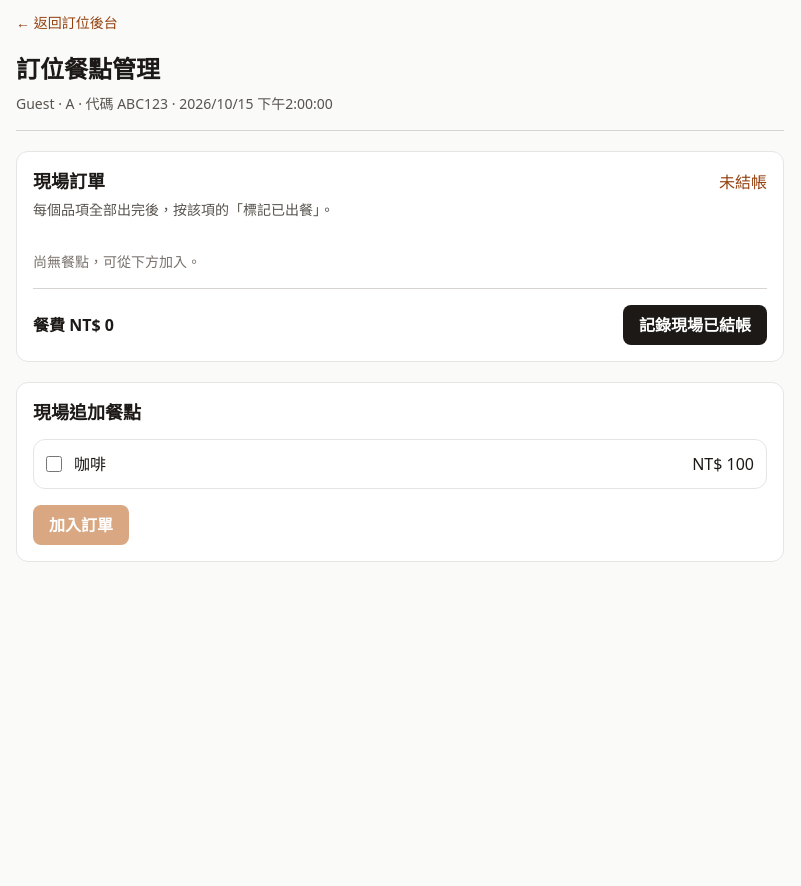
Test case: standalone reservation orders — acknowledged add versus refresh (#463) › clears only committed-stale after a successful manual reload
Click the checkbox named "選擇咖啡" at {"x": 54, "y": 464}, box [46, 456, 62, 472]
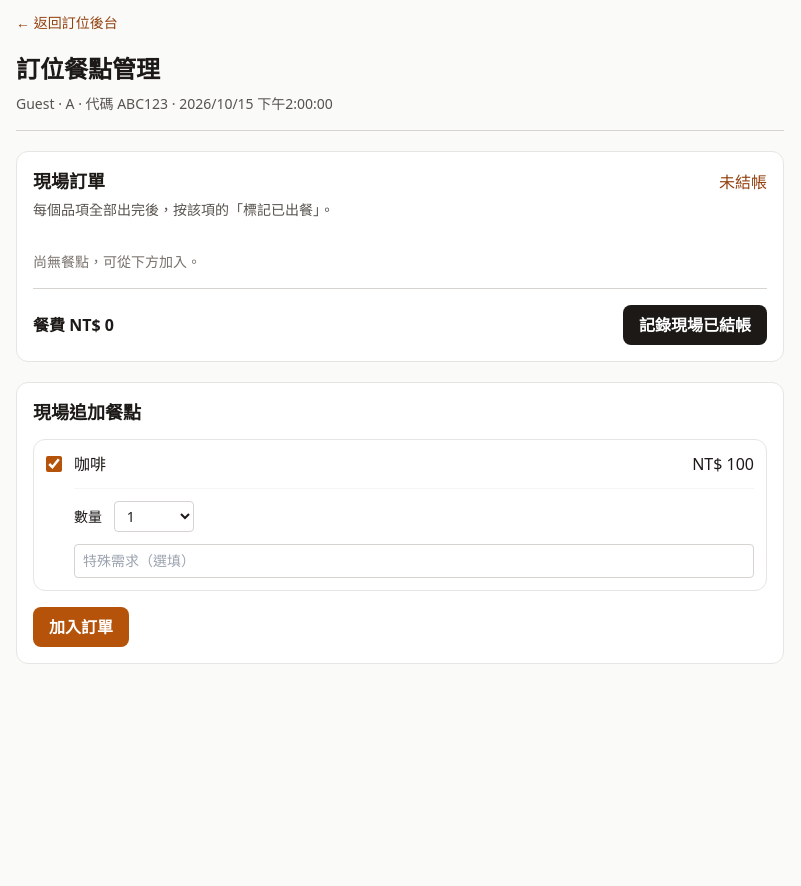
Click the button "加入訂單" at {"x": 81, "y": 627}, box [33, 607, 129, 647]
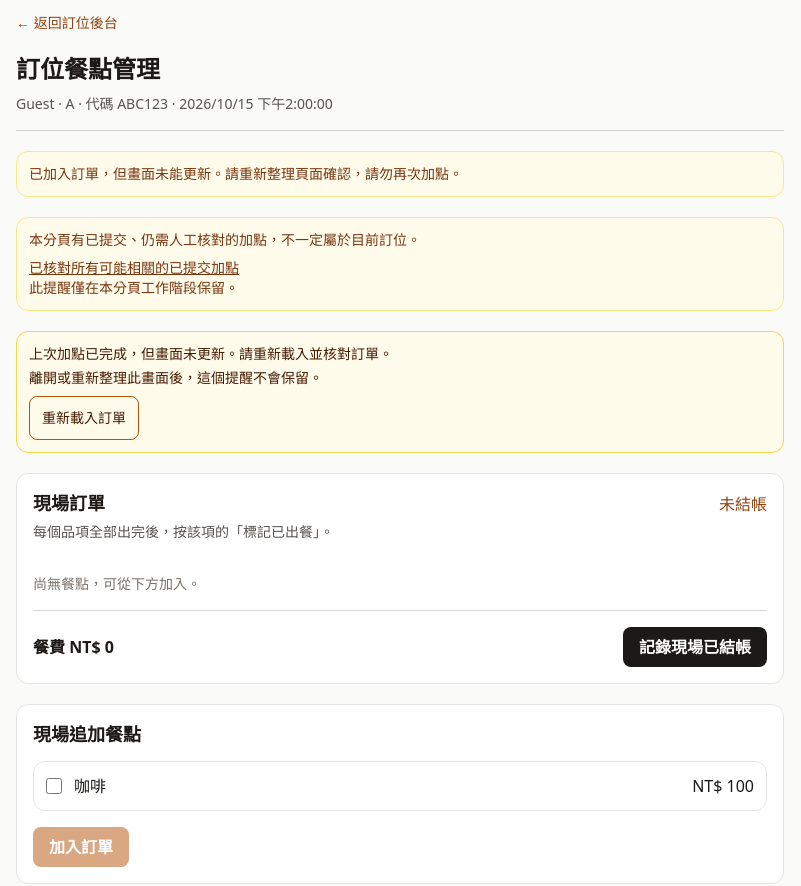
Expected: the text "上次加點已完成，但畫面未更新。請重新載入並核對訂單。" is shown, [29, 344, 393, 363]
Click the button "重新載入訂單" at {"x": 84, "y": 418}, box [29, 396, 139, 440]
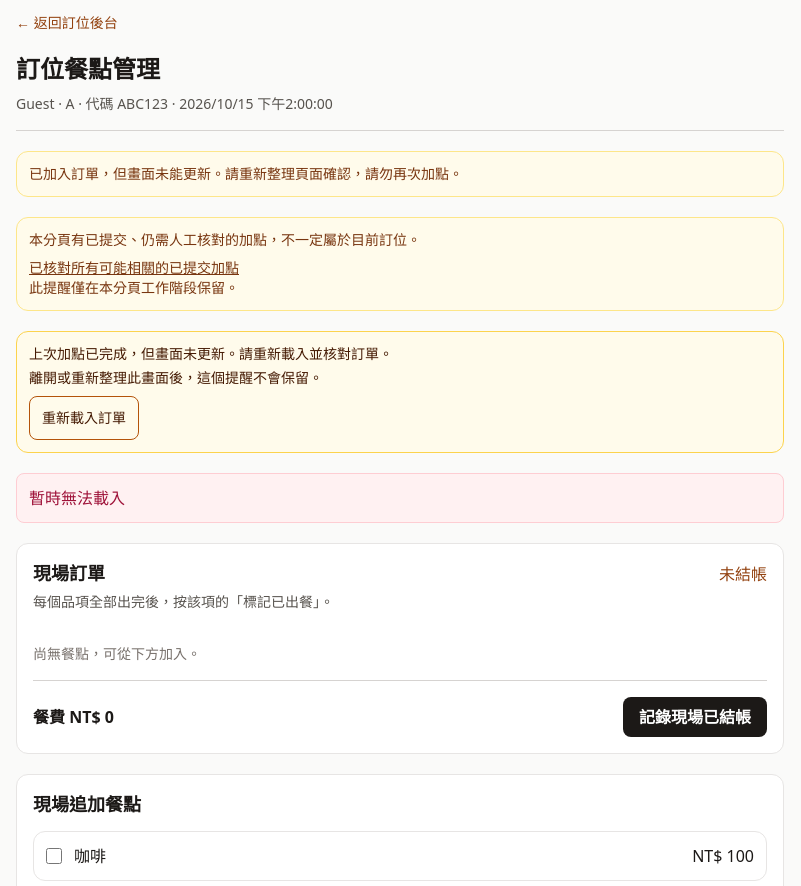
Expected: the text "上次加點已完成，但畫面未更新。請重新載入並核對訂單。" is shown, [29, 344, 393, 363]
Click the button "重新載入訂單" at {"x": 84, "y": 418}, box [29, 396, 139, 440]
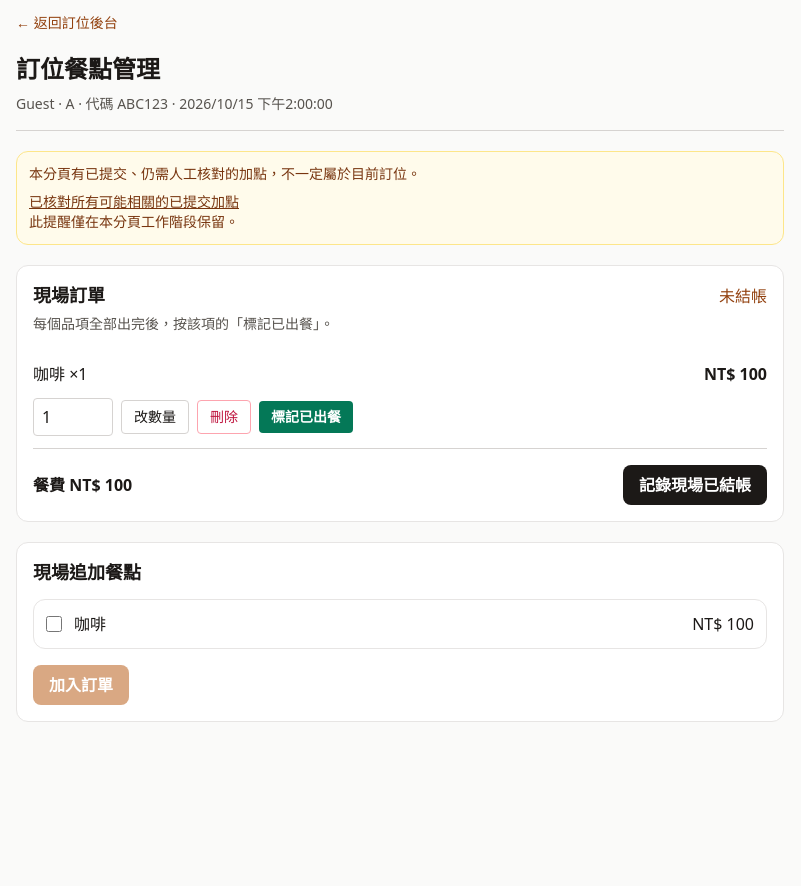
Expected: the text "上次加點已完成，但畫面未更新" is gone
Expected: the message "已加入訂單，但畫面未能更新。請重新整理頁面確認，請勿再次加點。" is gone
